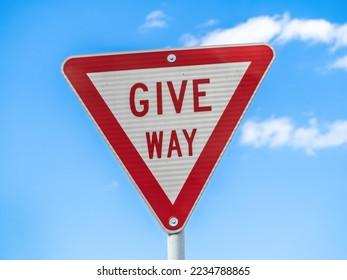Give Way: (60, 44, 284, 226)
